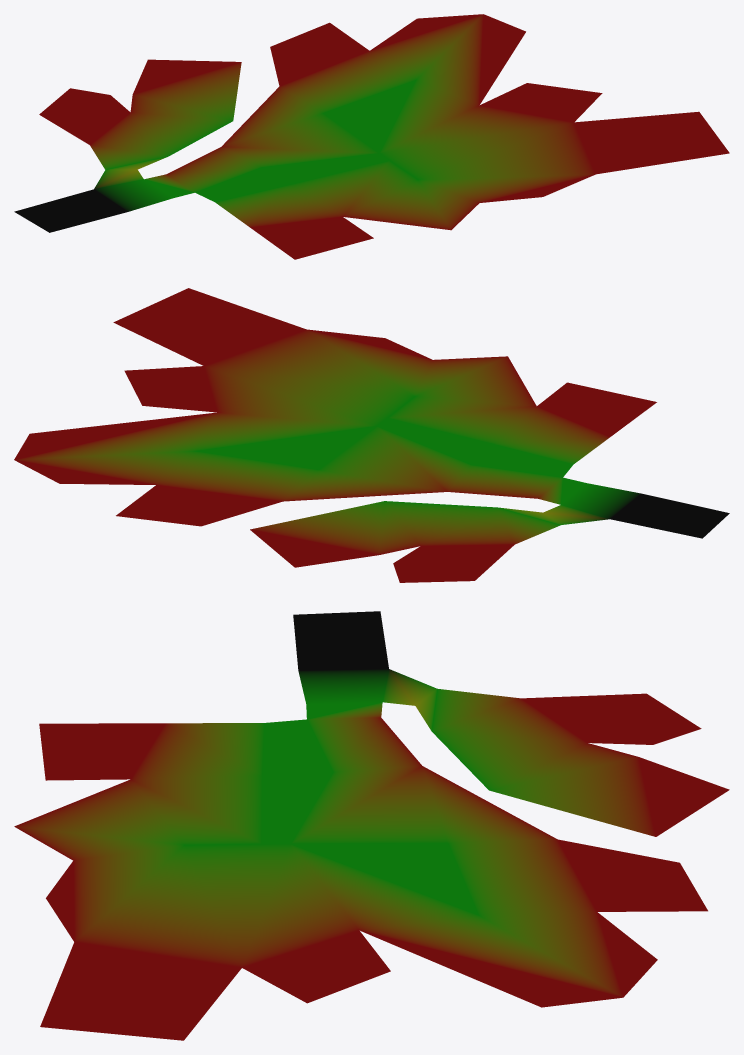
File: BirchBranch_Mesh.fbx
The picture shows the model from 3 angles, top to bottom: view 1: azimuth 30°, elevation 25°; view 2: azimuth 150°, elevation 25°; view 3: azimuth 270°, elevation 25°; orthographic projection. The views are drawn at different scales.
Parts seen in each view (by area): view 1: BirchBranch; view 2: BirchBranch; view 3: BirchBranch.
Part boxes in pixels (x1=…): BirchBranch: x1=14, y1=14, x2=729, y2=259; BirchBranch: x1=14, y1=288, x2=729, y2=582; BirchBranch: x1=14, y1=611, x2=729, y2=1040.
Size of the model in its own units: 165 by 0 by 116.
